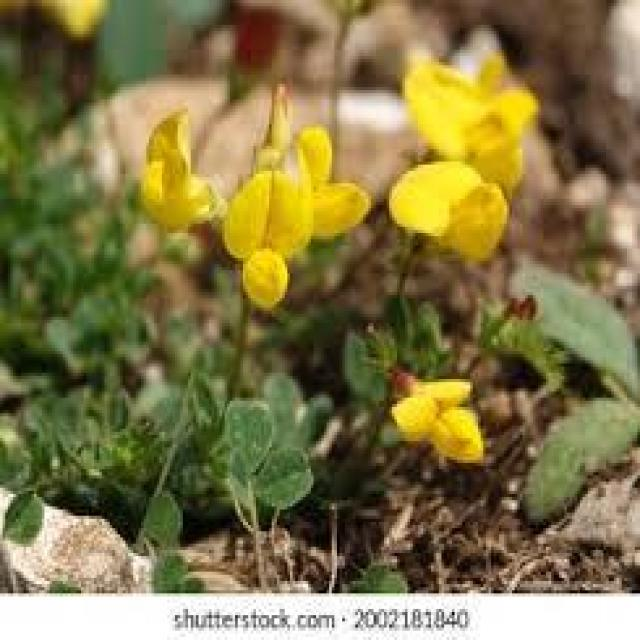organic waste: (198, 129, 368, 315), (378, 149, 514, 274), (128, 93, 219, 233), (394, 365, 488, 471)
